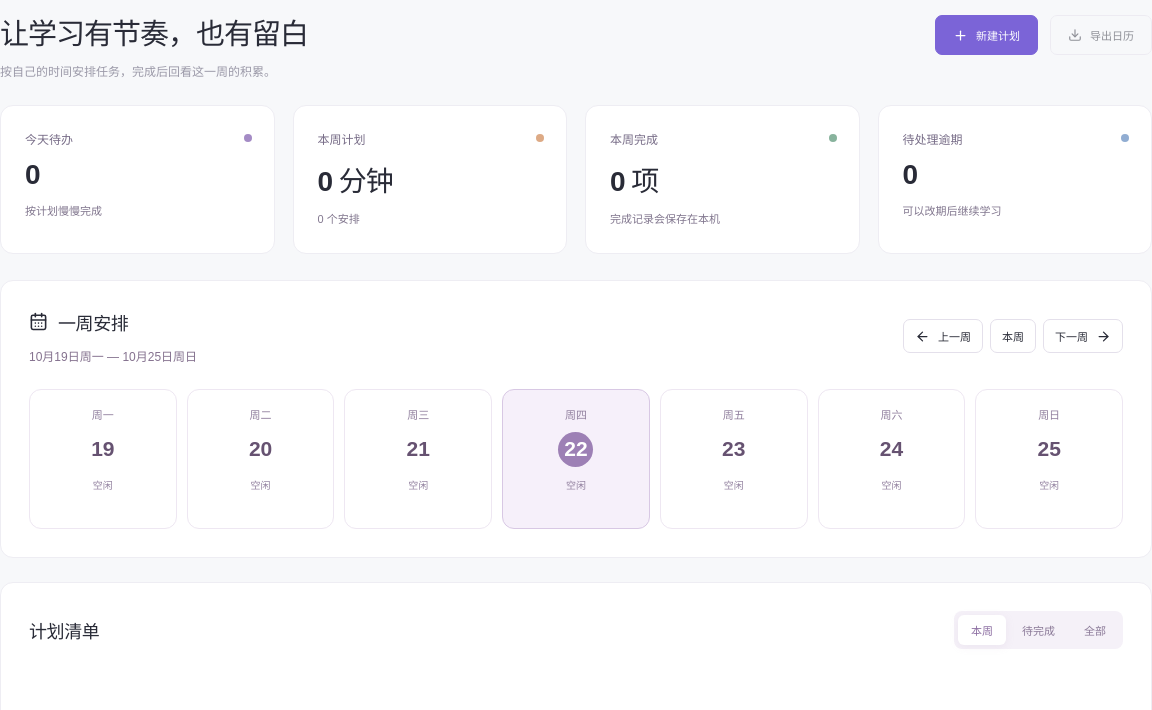
Test case: opens the selected calendar date and requires confirmation before deleting
Click the button "周一 19 空闲". click: (103, 459)
box: top-left (29, 389), bottom-right (177, 529)
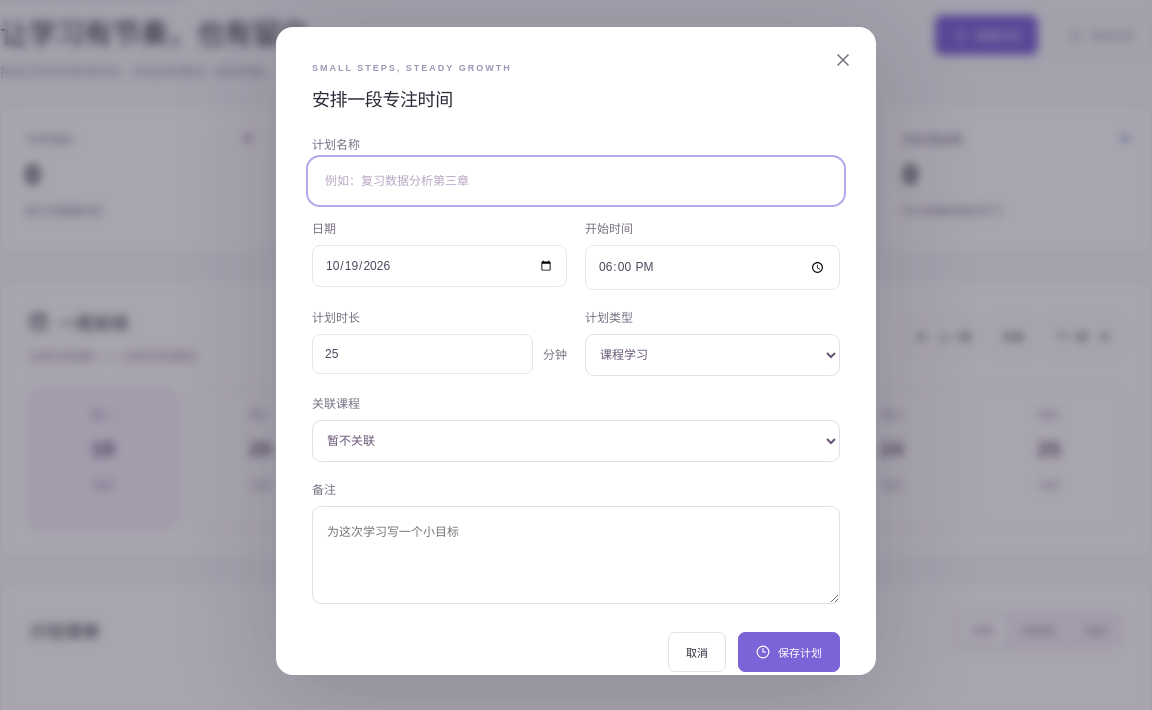
Type "周一复习" into the field labelled "计划名称". click: (576, 181)
box: top-left (312, 161), bottom-right (840, 201)
Click the button "保存计划". click: (789, 652)
box: top-left (738, 632), bottom-right (840, 672)
(page scrolled)
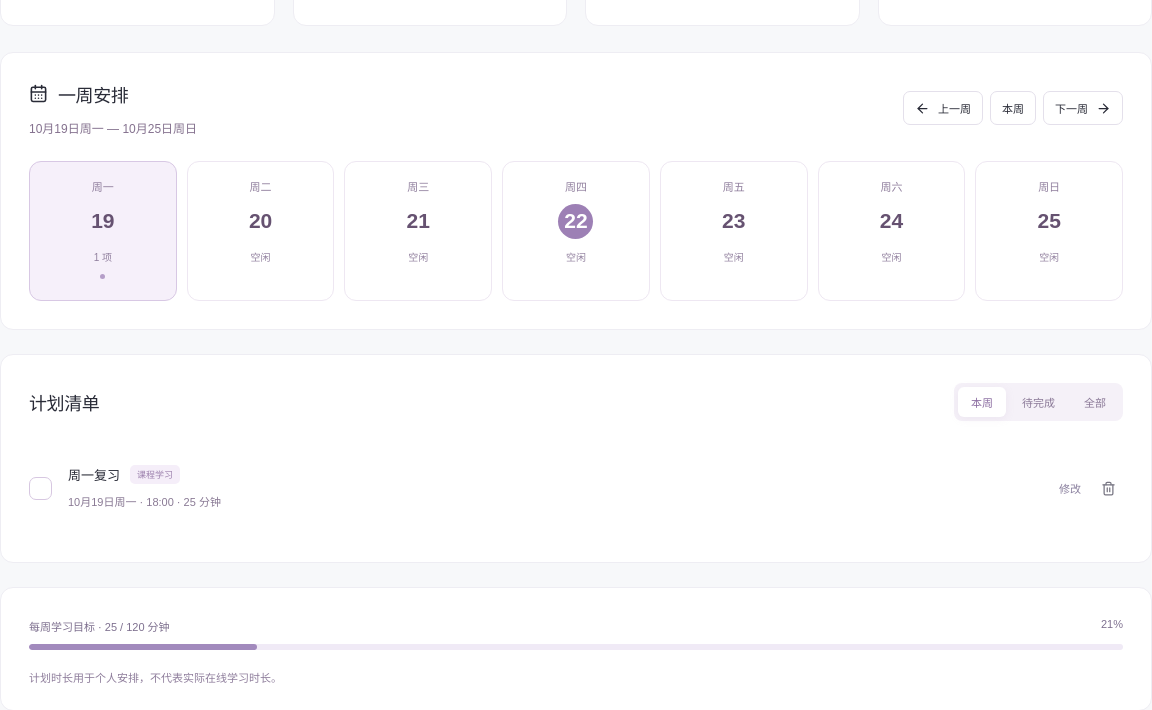
Click the button named "删除周一复习". click: (1108, 488)
box: top-left (1093, 474), bottom-right (1123, 504)
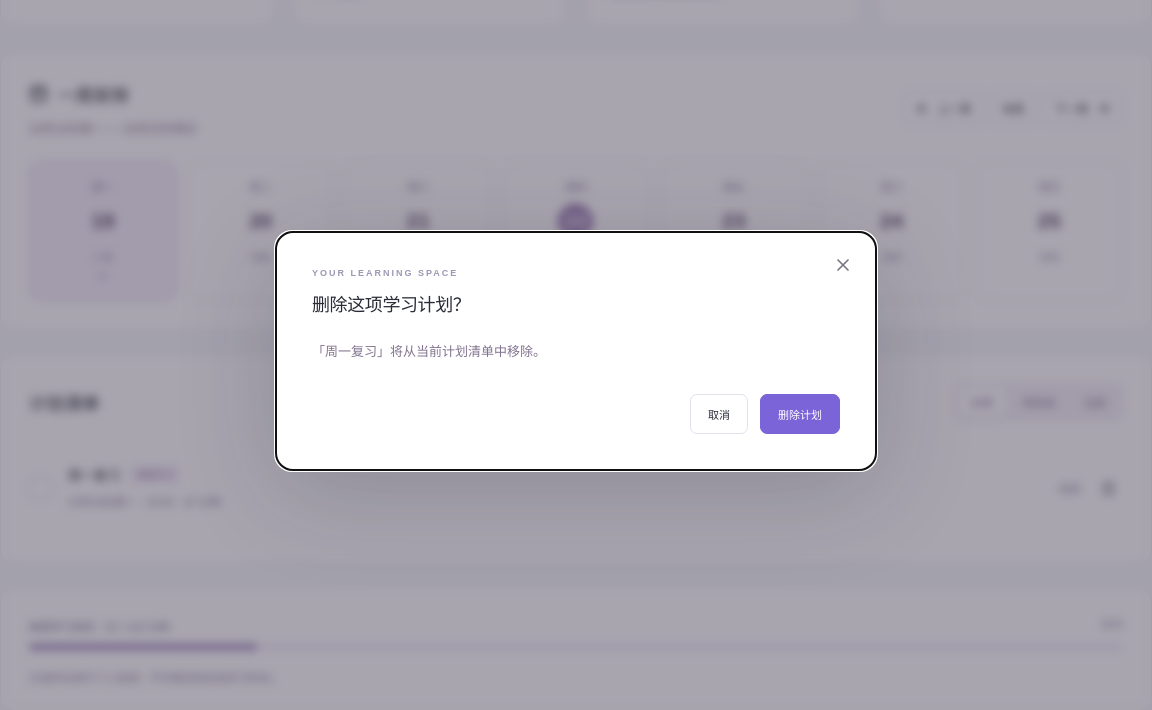
Click the button "取消". click: (719, 414)
box: top-left (690, 394), bottom-right (748, 434)
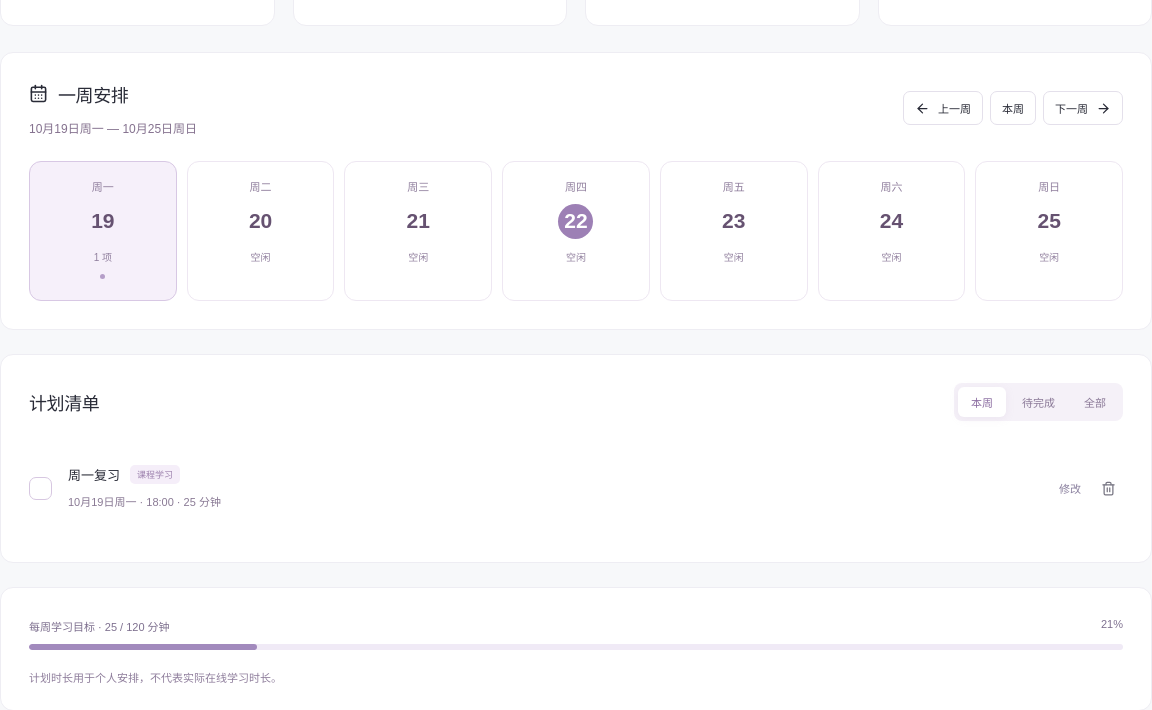
Expected: the text "周一复习" is shown, top-left (68, 465), bottom-right (120, 484)
Click the button named "删除周一复习". click: (1108, 488)
box: top-left (1093, 474), bottom-right (1123, 504)
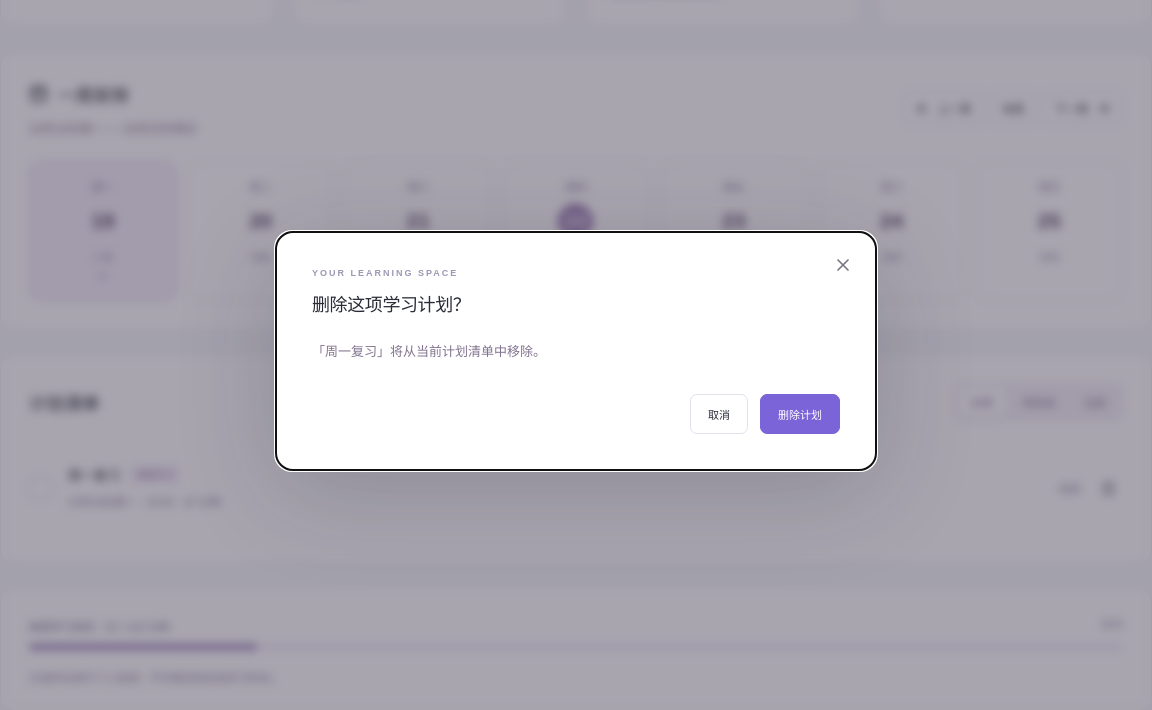
Click the button "删除计划". click: (800, 414)
box: top-left (760, 394), bottom-right (840, 434)
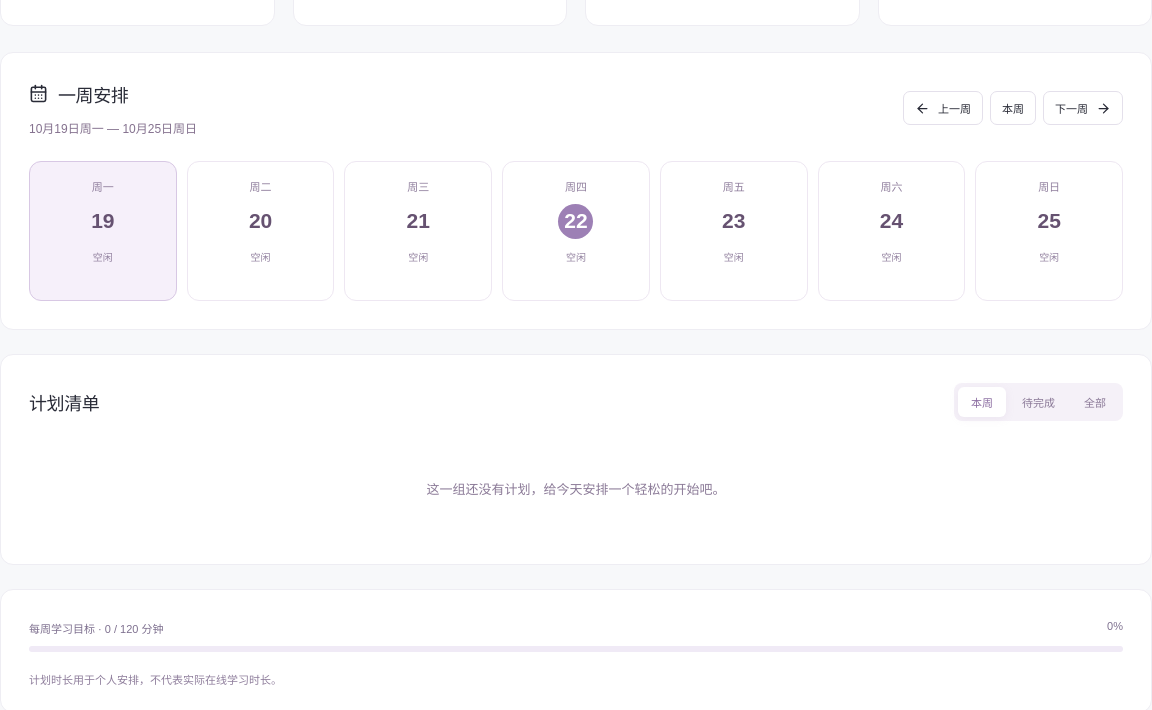
Expected: the text "周一复习" is gone
